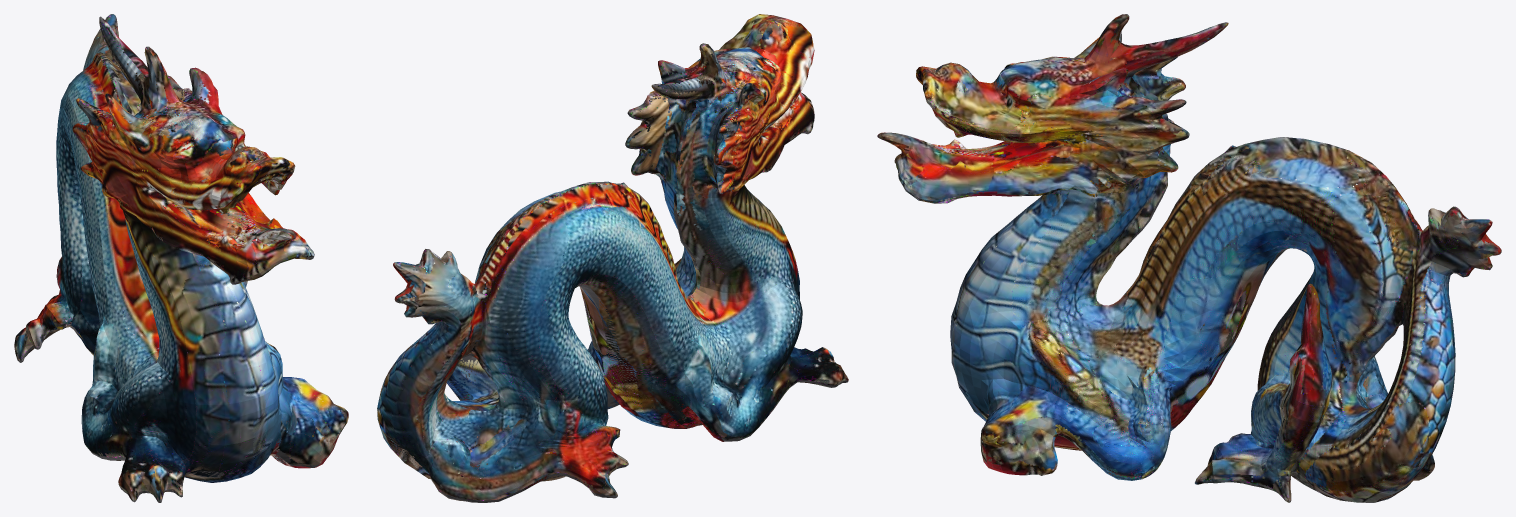
The model's file is Glowing Chinese Dragon_ A Detailed Cartoon (2).glb.
The picture shows the model from 3 angles, left to right: view 1: azimuth 30°, elevation 25°; view 2: azimuth 150°, elevation 25°; view 3: azimuth 270°, elevation 25°; orthographic projection. The views are drawn at different scales.
Parts seen in each view (by area): view 1: mesh; view 2: mesh; view 3: mesh.
Boxes of the visible parts, x1,y1,x2,y2 form: mesh: [14, 14, 348, 502]; mesh: [377, 14, 848, 502]; mesh: [877, 14, 1501, 502].
Size of the model in its own units: 0.4712 by 0.6239 by 0.8724.
Materials: 1 (1 with a texture image).
